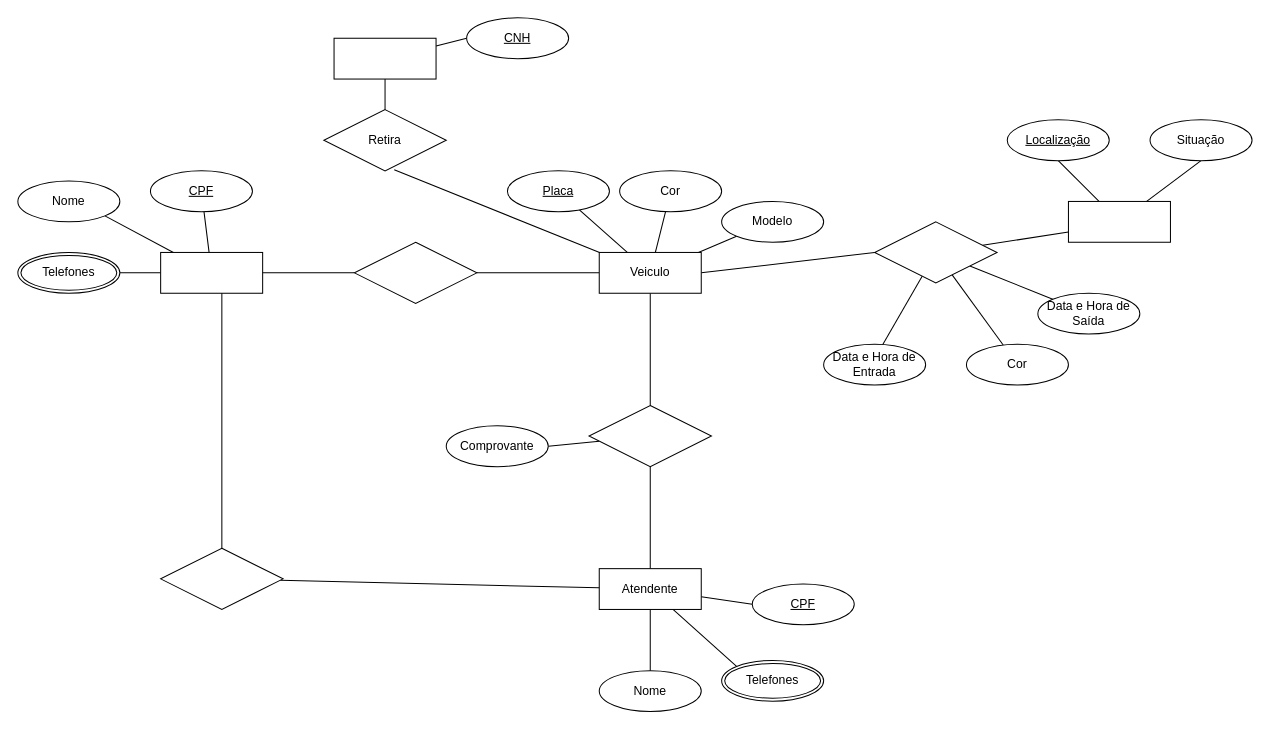
Some shapes in this 1270 by 729 pixel diagram are drawn without their labels. Here are the shapes that lost their labels. From the top down, the centre of each, then its label:
point (384, 58): Manobrista
point (1118, 221): Vaga
point (211, 272): Cliente
point (415, 272): Possui
point (935, 252): Fica
point (649, 435): Registra
point (221, 578): Cadastra
